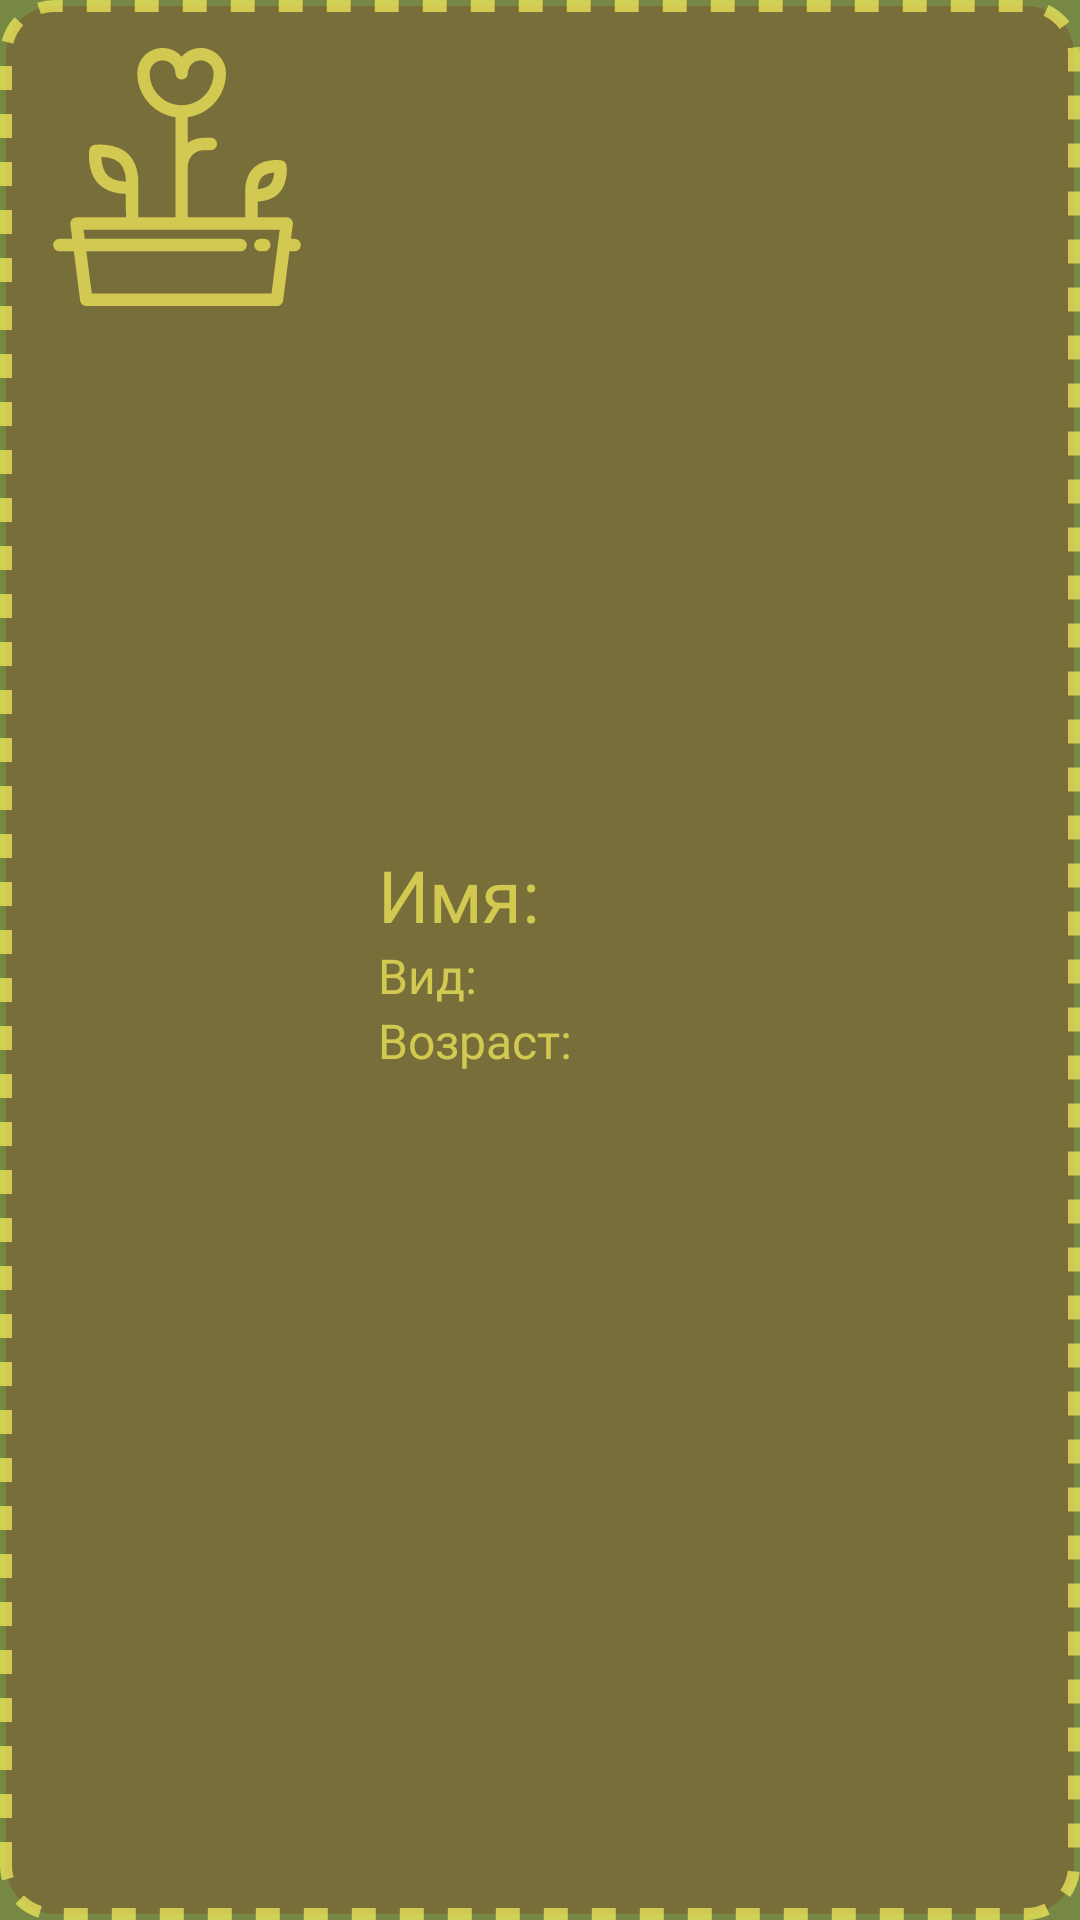

Screen size 1080x1920. Icon name, then its center in pixels as (x=x, y=y):
heart flower: (x=177, y=177)
